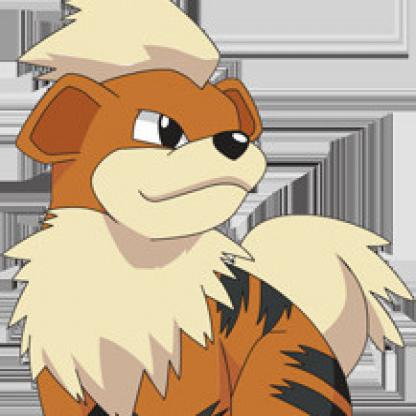Growlithe: (3, 1, 405, 415)
